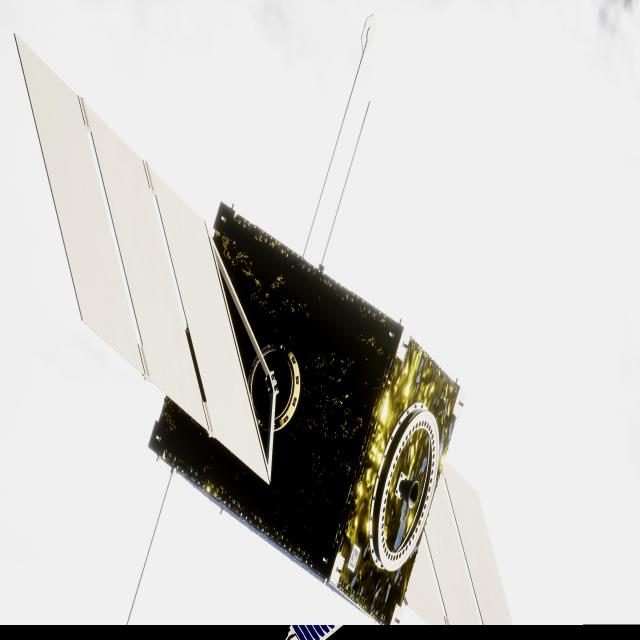medium_debris: (15, 35, 508, 625)
